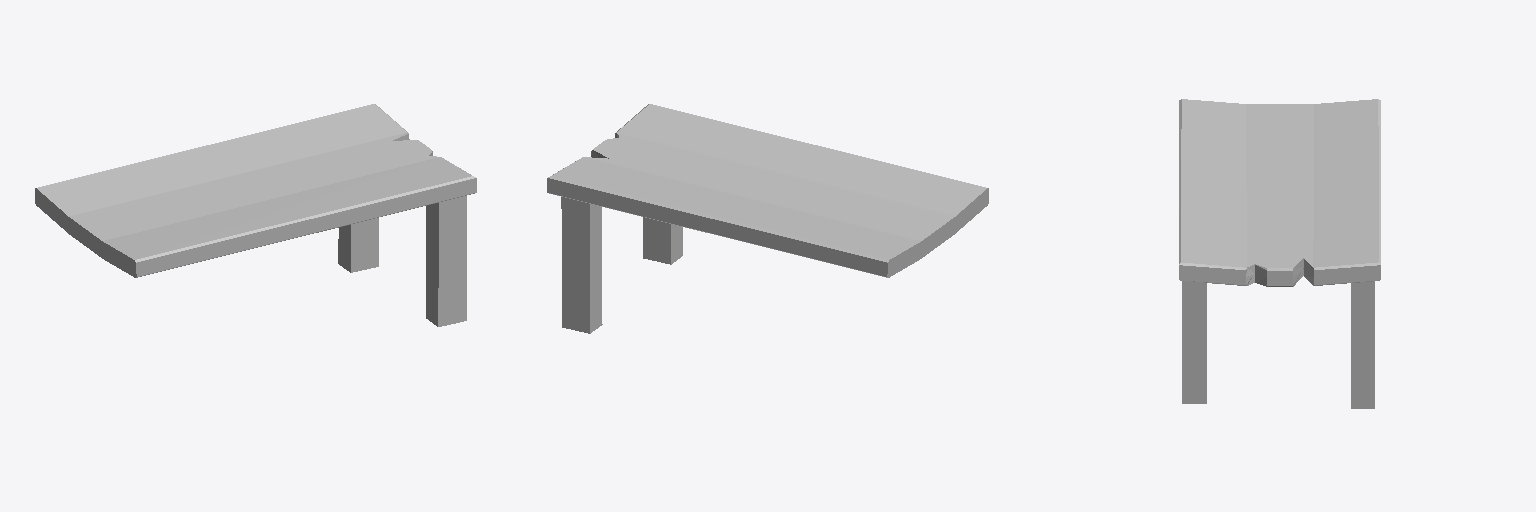
The model's file is floorLP.obj.
3 views of the same model, side by side, from view 1: azimuth 30°, elevation 25°; view 2: azimuth 150°, elevation 25°; view 3: azimuth 270°, elevation 25° (orthographic).
Parts seen in each view (by area): view 1: default; view 2: default; view 3: default.
Boxes of the visible parts, <box> form: default: <box>35,104,476,326</box>; default: <box>547,104,988,333</box>; default: <box>1179,99,1380,408</box>.
Size of the model in its own units: 5.81 by 2.45 by 2.99.